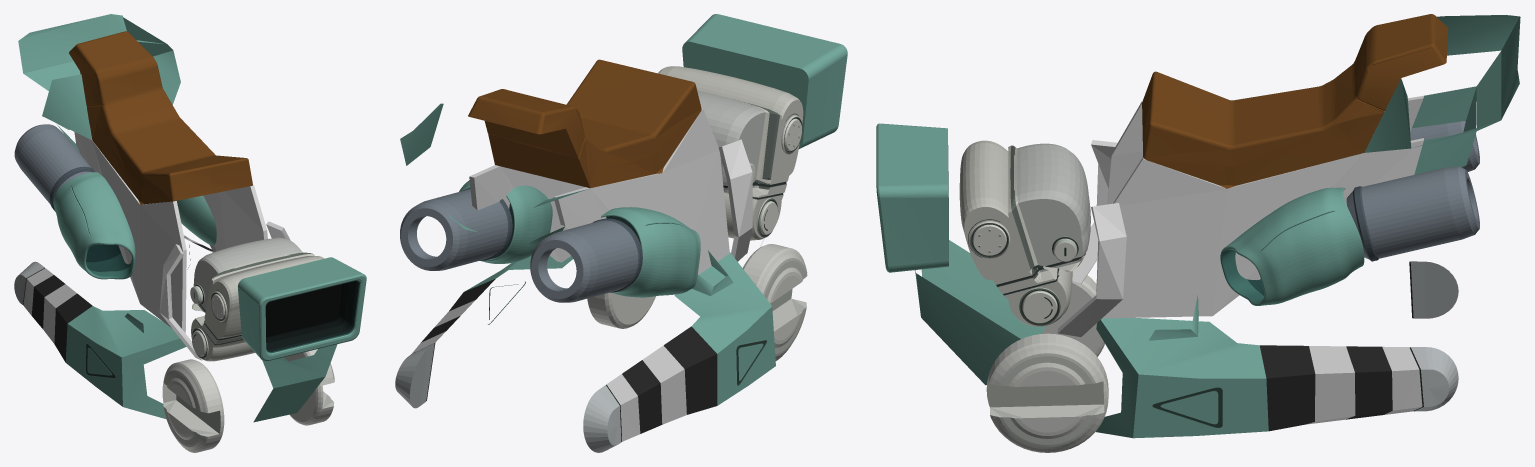
Rendered from cyclone-rear-pieces.glb.
3 renders of one model, left to right at view 1: azimuth 30°, elevation 25°; view 2: azimuth 150°, elevation 25°; view 3: azimuth 270°, elevation 25°, orthographic. The views are drawn at different scales.
Parts seen in each view (by area): view 1: rear_4, rear_6, rear_5, rear_10, rear_24, rear_25, rear_14, rear_29, rear_31, rear_21, rear_18, rear_2 (+9 smaller); view 2: rear_4, rear_6, rear_5, rear_10, rear_29, rear_24, rear_18, rear_15, rear_26, rear_14, rear_3, rear_21 (+11 smaller); view 3: rear_3, rear_5, rear_8, rear_13, rear_6, rear_28, rear_21, rear_15, rear_2, rear_23, rear_30, rear_11 (+12 smaller).
Boxes of the visible parts, left/top/right/bottom form: rear_4: left=14, top=261, right=186, bottom=418; rear_6: left=238, top=257, right=366, bottom=361; rear_5: left=190, top=237, right=323, bottom=361; rear_10: left=115, top=172, right=186, bottom=332; rear_24: left=69, top=37, right=154, bottom=171; rear_25: left=18, top=23, right=91, bottom=139; rear_14: left=162, top=359, right=224, bottom=452; rear_29: left=117, top=136, right=213, bottom=204; rear_31: left=69, top=193, right=135, bottom=279; rear_21: left=103, top=31, right=189, bottom=136; rear_18: left=14, top=124, right=91, bottom=203; rear_2: left=253, top=344, right=337, bottom=422; rear_4: left=583, top=252, right=775, bottom=452; rear_6: left=682, top=14, right=847, bottom=148; rear_5: left=658, top=66, right=803, bottom=240; rear_10: left=626, top=108, right=729, bottom=274; rear_29: left=584, top=70, right=701, bottom=180; rear_24: left=502, top=97, right=624, bottom=188; rear_18: left=530, top=220, right=638, bottom=302; rear_15: left=400, top=189, right=508, bottom=270; rear_26: left=601, top=207, right=685, bottom=297; rear_14: left=743, top=244, right=807, bottom=360; rear_3: left=395, top=255, right=572, bottom=408; rear_21: left=468, top=89, right=542, bottom=176; rear_3: left=1096, top=318, right=1458, bottom=438; rear_5: left=959, top=140, right=1090, bottom=326; rear_8: left=1102, top=157, right=1295, bottom=318; rear_13: left=986, top=333, right=1108, bottom=452; rear_6: left=876, top=123, right=948, bottom=272; rear_28: left=1142, top=97, right=1295, bottom=188; rear_21: left=1296, top=29, right=1447, bottom=170; rear_15: left=1346, top=166, right=1479, bottom=259; rear_2: left=915, top=240, right=1045, bottom=385; rear_23: left=1296, top=187, right=1364, bottom=297; rear_30: left=1220, top=198, right=1295, bottom=305; rear_11: left=1057, top=203, right=1126, bottom=336.
Size of the model in its own units: 0.6846 by 0.9534 by 1.45.
